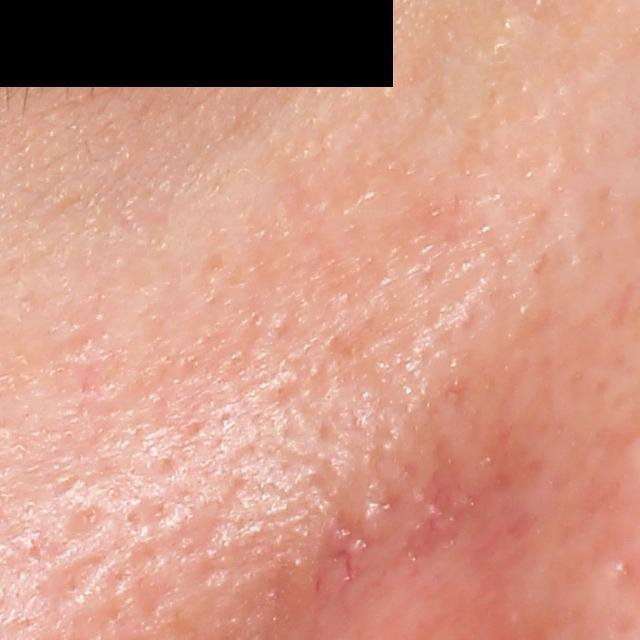atrophic_scar: (400, 421, 551, 564), (29, 556, 103, 620), (318, 513, 377, 587)
